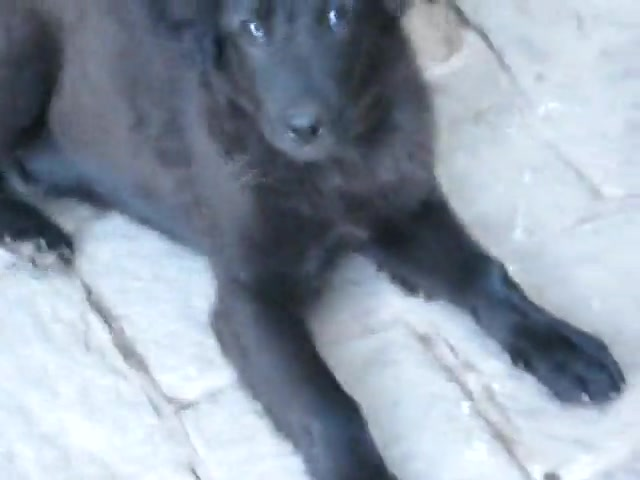dog: (1, 1, 627, 480)
